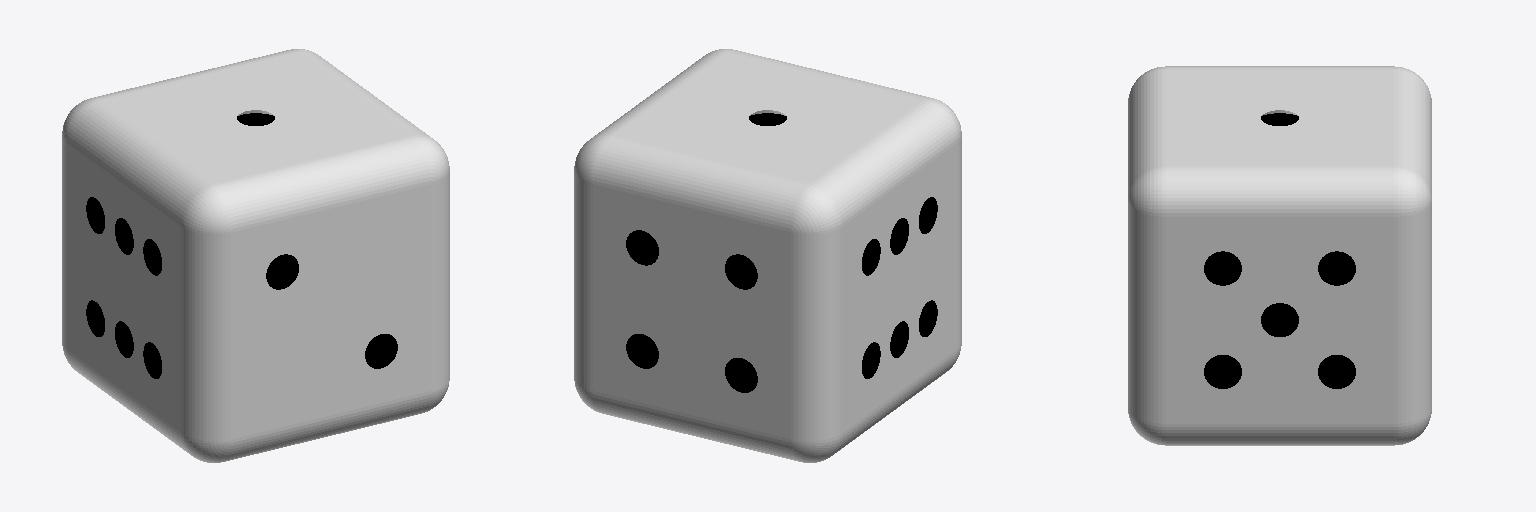
Rendered from dice.obj.
3 renders of one model, left to right at view 1: azimuth 30°, elevation 25°; view 2: azimuth 150°, elevation 25°; view 3: azimuth 270°, elevation 25°, orthographic.
Parts seen in each view (by area): view 1: mesh23, mesh2, mesh50, mesh14, mesh11, mesh9, mesh21, mesh12, mesh13, mesh16, mesh53, mesh57 (+7 smaller); view 2: mesh33, mesh2, mesh50, mesh10, mesh6, mesh9, mesh17, mesh7, mesh35, mesh8, mesh16, mesh53 (+6 smaller); view 3: mesh39, mesh2, mesh3, mesh7, mesh12, mesh19, mesh6, mesh11, mesh4, mesh5, mesh41, mesh45 (+6 smaller).
Part boxes in pixels (x1,y1,x2,y2): mesh23: (233, 184, 430, 438); mesh2: (100, 52, 410, 183); mesh50: (67, 143, 180, 432); mesh14: (181, 227, 232, 440); mesh11: (215, 136, 430, 231); mesh9: (67, 101, 213, 225); mesh21: (225, 391, 430, 461); mesh12: (431, 172, 449, 390); mesh13: (181, 184, 232, 234); mesh16: (67, 350, 187, 452); mesh53: (86, 197, 161, 275); mesh57: (86, 300, 161, 378); mesh33: (593, 184, 790, 438); mesh2: (613, 52, 923, 183); mesh50: (843, 143, 956, 432); mesh10: (791, 227, 842, 440); mesh6: (593, 136, 808, 231); mesh9: (810, 101, 956, 225); mesh17: (593, 391, 798, 461); mesh7: (574, 172, 592, 390); mesh35: (626, 230, 757, 392); mesh8: (791, 184, 842, 234); mesh16: (836, 350, 956, 452); mesh53: (862, 197, 937, 275); mesh39: (1166, 217, 1393, 423); mesh2: (1166, 70, 1393, 165); mesh3: (1166, 166, 1393, 216); mesh7: (1394, 203, 1431, 423); mesh12: (1128, 203, 1165, 423); mesh19: (1166, 424, 1393, 445); mesh6: (1394, 70, 1431, 194); mesh11: (1128, 70, 1165, 194); mesh4: (1394, 166, 1431, 216); mesh5: (1128, 166, 1165, 216); mesh41: (1318, 251, 1355, 285); mesh45: (1204, 251, 1241, 285).
Bounding box in the file's own units: 0.04 × 0.04 × 0.04.